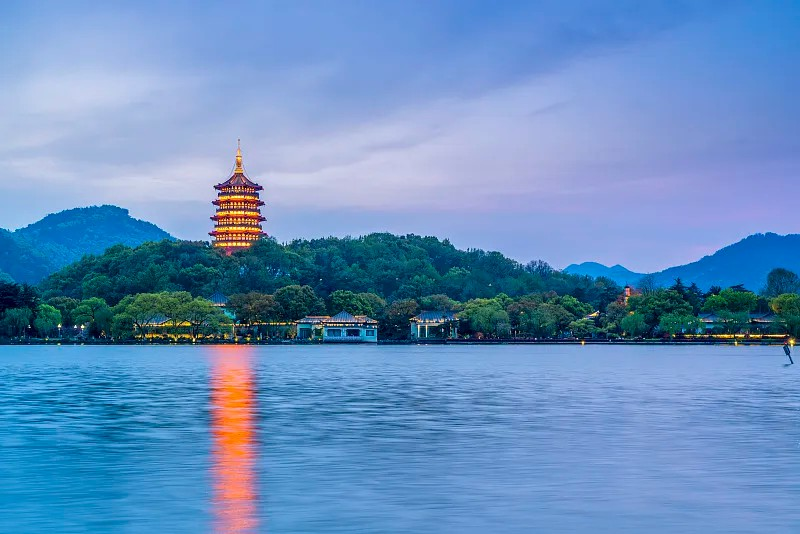Leifeng: (209, 138, 271, 254)
